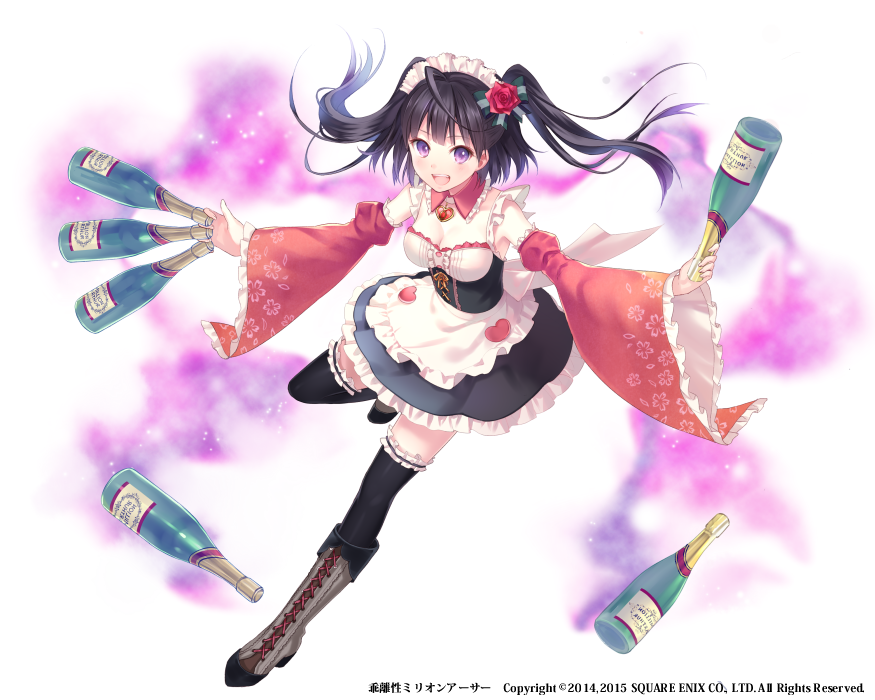纸片人正脸: (386, 71, 512, 201)
